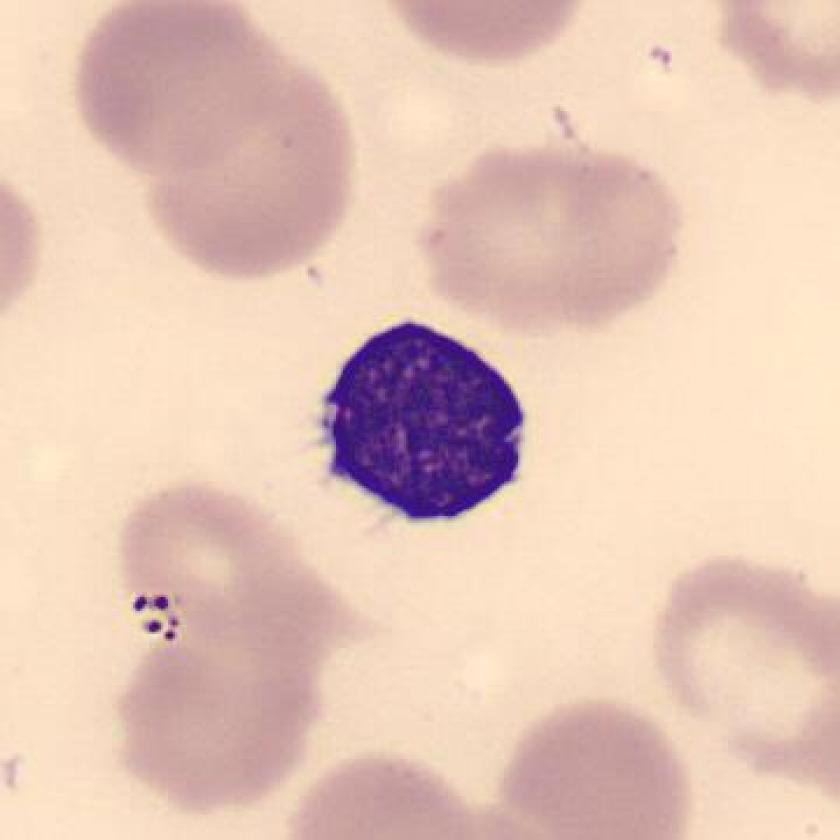lymphocyte: (302, 304, 549, 550)
